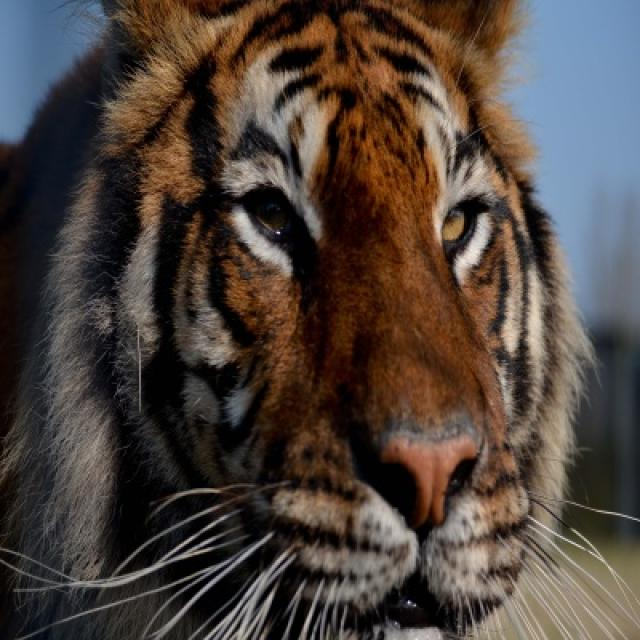Tiger: (6, 3, 585, 638)
